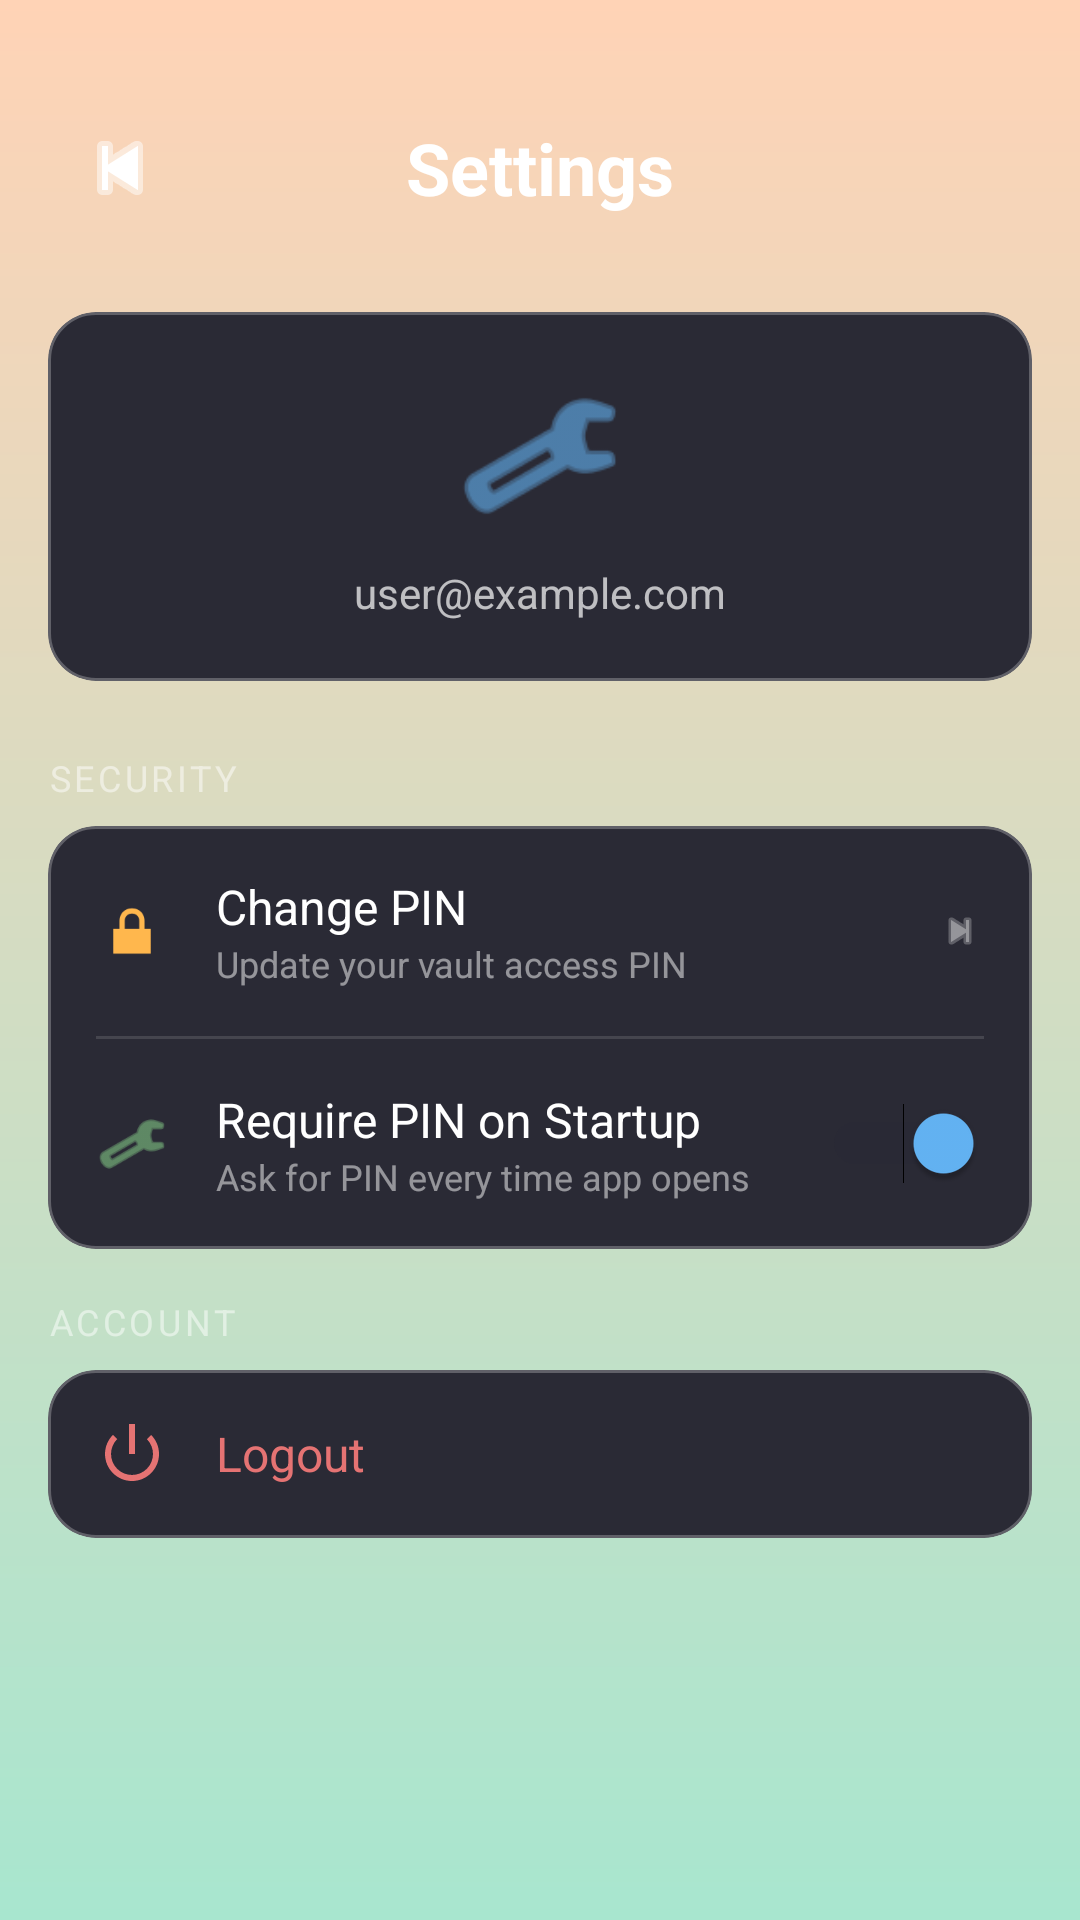

Where icons sit on this 1080×1920 app screen, as (x1, y1, x2, y2):
lock: (113, 908, 151, 954)
lock power off: (105, 1424, 159, 1481)
manage: (464, 398, 616, 514), (100, 1119, 164, 1169)
next: (948, 917, 972, 945)
previous: (97, 141, 143, 195)
